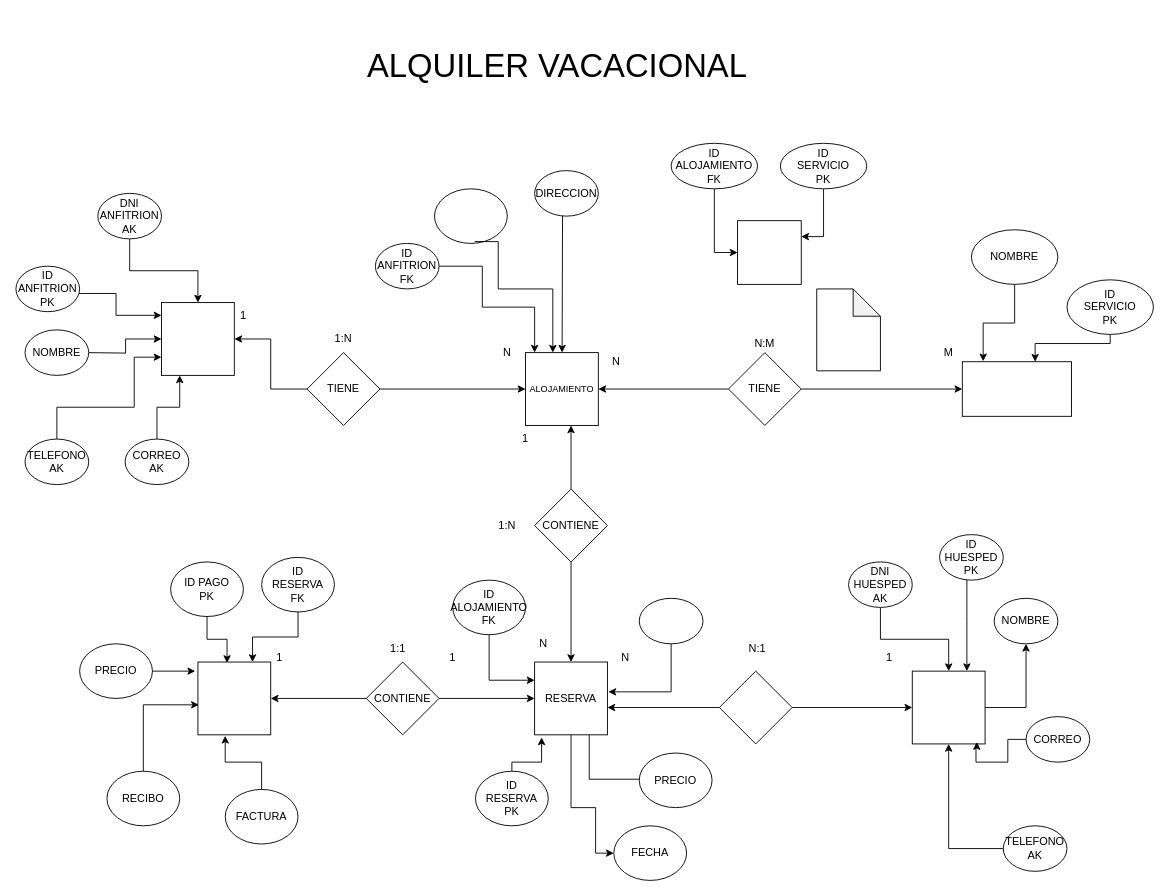
This 1169x896 diagram has some shape labels left out. The box of each missing label's shape, as (x1, y1, x2, y2) in pixels:
ALOJAMIENTO + SERVICIOS: (737, 220, 801, 284)
ANFITRION: (161, 302, 234, 375)
HUESPED: (911, 670, 985, 744)
ID ALOJAMIENTO PK: (434, 188, 507, 243)
ID HUESPED FK: (638, 597, 703, 644)
PAGO: (197, 661, 271, 735)
PERTENECE: (718, 670, 792, 744)
SE CONVIERTE A TABLA INTERMEDIA: (816, 288, 880, 371)
SERVICIO: (961, 361, 1072, 416)
